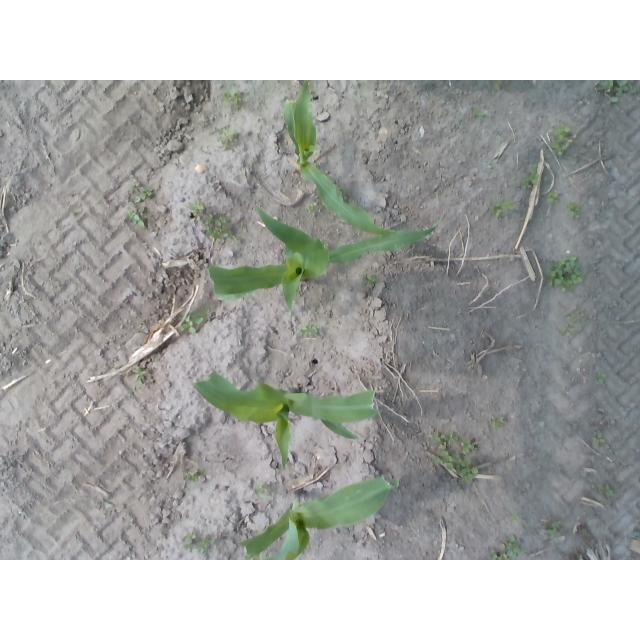Maize: (209, 206, 448, 310), (194, 371, 383, 474), (281, 80, 400, 237), (239, 477, 401, 560)
Weeds: (546, 257, 582, 288), (205, 210, 235, 242), (548, 124, 572, 157), (500, 536, 520, 560), (593, 81, 635, 92), (458, 457, 477, 480), (435, 453, 457, 472), (181, 317, 204, 333), (129, 209, 147, 228), (180, 535, 197, 554), (219, 134, 238, 151), (496, 199, 516, 215), (520, 174, 539, 190), (132, 188, 152, 203), (461, 438, 476, 457), (226, 88, 243, 104), (133, 368, 148, 384), (189, 197, 203, 214), (568, 202, 581, 219), (199, 537, 211, 555), (302, 324, 319, 336), (255, 484, 272, 496), (490, 549, 508, 560), (363, 273, 377, 287), (473, 106, 488, 119), (600, 485, 616, 496), (547, 190, 561, 202), (489, 417, 505, 427), (606, 92, 619, 104), (183, 470, 198, 480), (491, 81, 504, 92), (598, 371, 607, 386), (595, 436, 606, 448), (433, 431, 446, 441), (547, 528, 559, 538), (563, 325, 573, 335), (447, 432, 457, 442), (440, 442, 448, 450), (511, 515, 520, 521), (552, 521, 561, 527), (571, 316, 578, 322), (613, 301, 618, 307)
